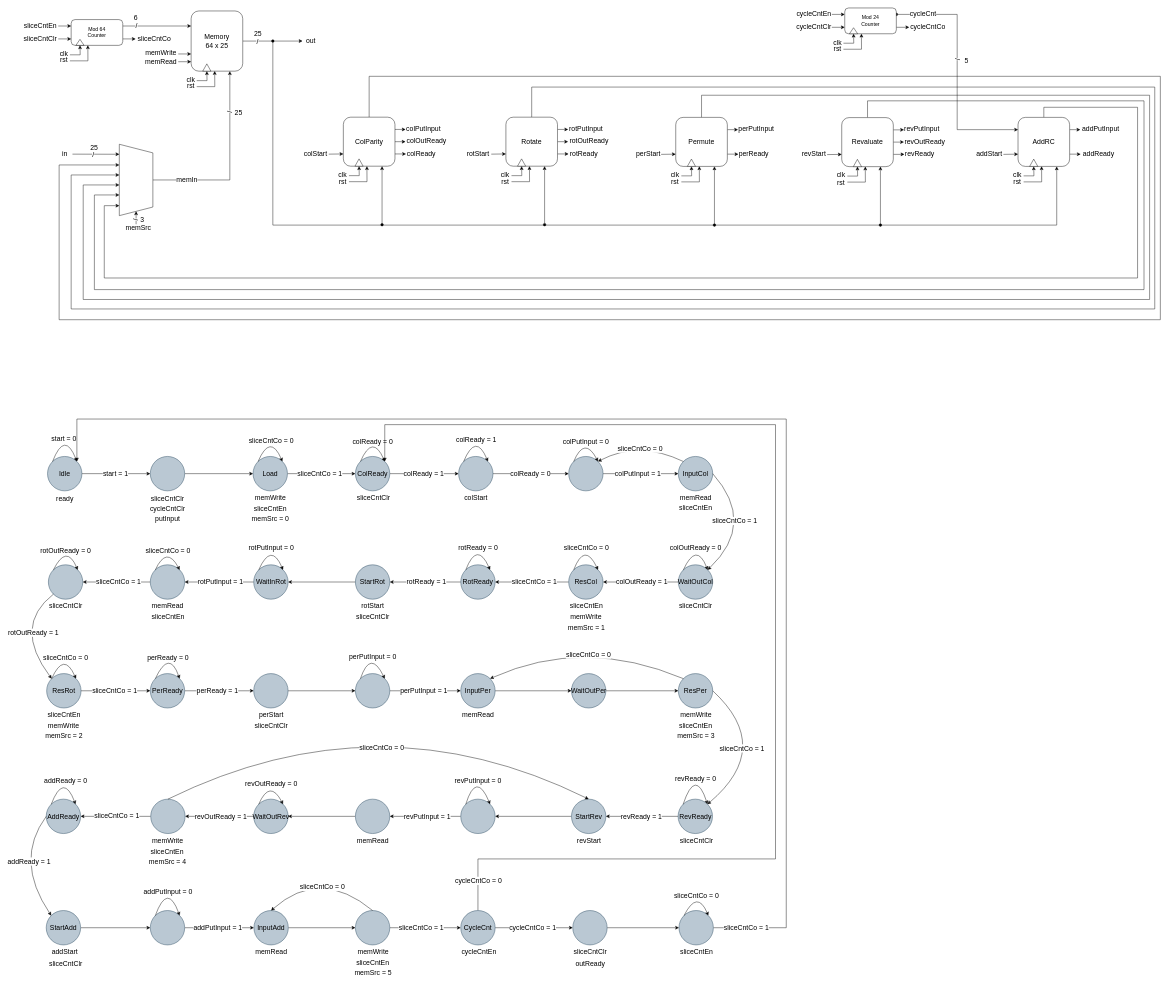
Some shapes in this 1171 by 986 pixel diagram are drawn without their labels. Each missing label, with the centre of its shape:
Inform: (x=589, y=927)
Init: (x=167, y=473)
InputRev: (x=372, y=816)
InputRot: (x=167, y=581)
Mux 6-To-1: (x=136, y=180)
ResAdd: (x=372, y=927)
ResRev: (x=167, y=816)
Result: (x=696, y=927)
StartCol: (x=475, y=473)
StartPer: (x=270, y=690)
WaitInAdd: (x=167, y=927)
WaitInCol: (x=585, y=473)
WaitInPer: (x=372, y=690)
WaitInRev: (x=477, y=816)
WaitOutRot: (x=65, y=581)
